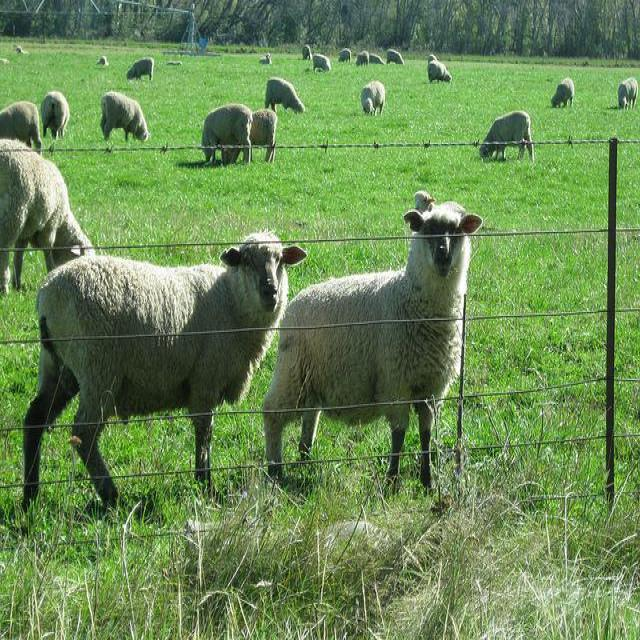Sheep: (21, 228, 308, 517), (260, 205, 486, 504), (0, 40, 437, 156), (0, 134, 98, 294), (200, 103, 254, 165), (480, 111, 536, 164), (100, 89, 149, 143)
